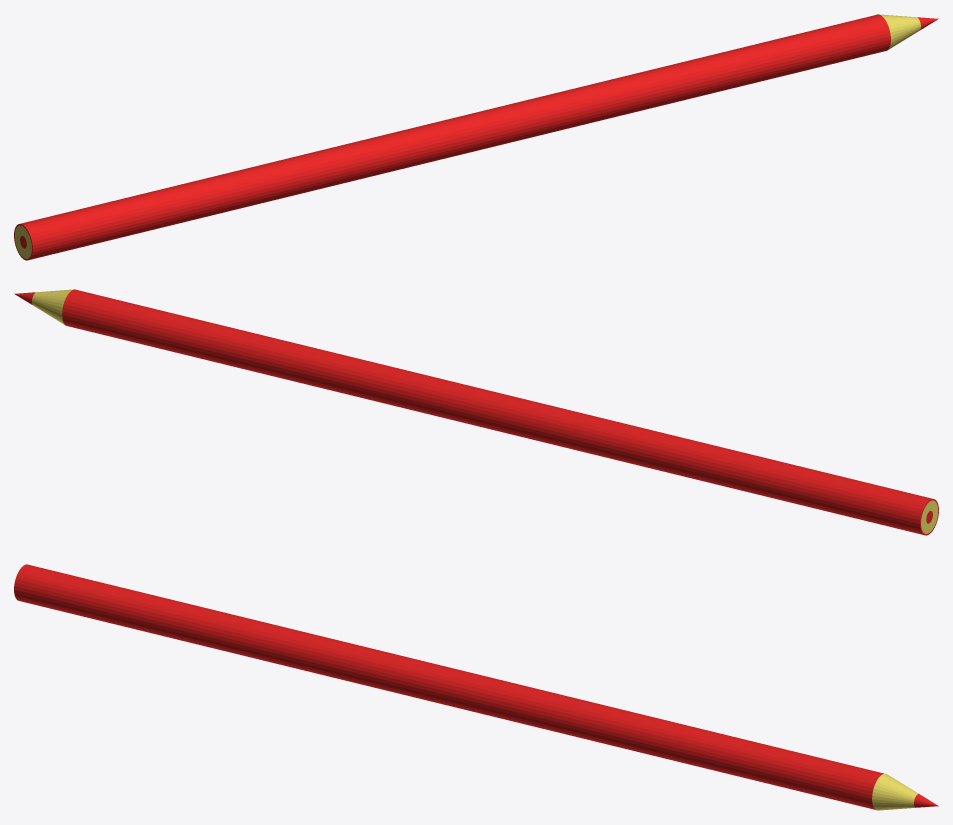
The model's file is penRed+.fbx.
3 renders of one model, top to bottom at view 1: azimuth 30°, elevation 25°; view 2: azimuth 150°, elevation 25°; view 3: azimuth 330°, elevation 25°, orthographic.
Visible parts, largest first — view 1: Cylinder; view 2: Cylinder; view 3: Cylinder.
Part boxes in pixels (x1,y1,x2,y2): Cylinder: (14, 14, 938, 260); Cylinder: (14, 289, 938, 535); Cylinder: (14, 564, 938, 810).
Size of the model in its own units: 341 by 12.18 by 12.18.
